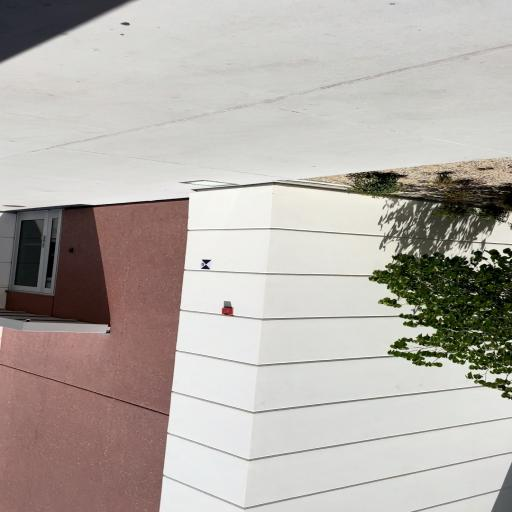target6: (200, 259, 212, 269)
